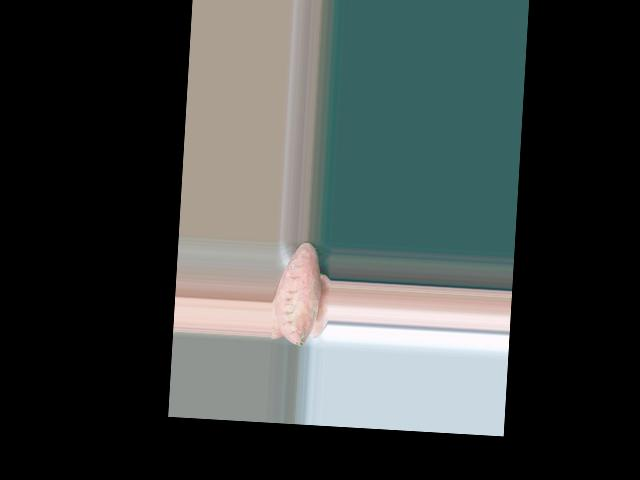sweet_potato: (276, 241, 318, 346)
